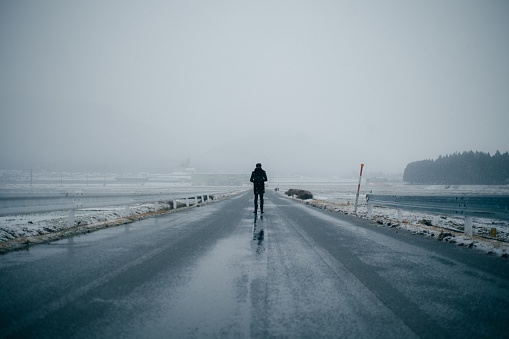em pe: (244, 157, 263, 218)
